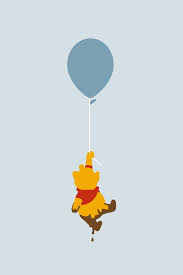Winnie: (70, 162, 106, 204)
